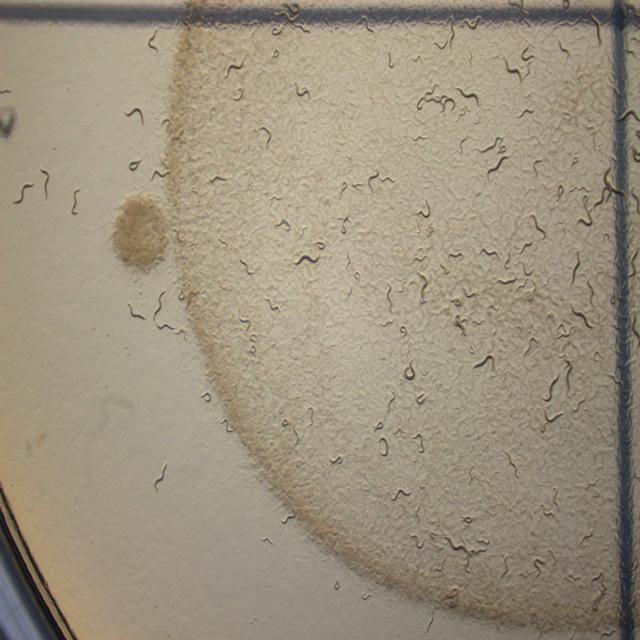filarid: (152, 290, 186, 334), (294, 240, 325, 265), (540, 407, 562, 432), (542, 372, 560, 402), (12, 182, 35, 205), (154, 462, 168, 491), (474, 352, 495, 370), (40, 165, 50, 199), (128, 302, 146, 320), (412, 432, 425, 453), (71, 189, 80, 215), (404, 360, 415, 380), (275, 219, 291, 230), (380, 437, 389, 455), (129, 158, 141, 170), (389, 390, 396, 410), (282, 514, 295, 523), (416, 394, 426, 404), (394, 427, 406, 435), (262, 537, 274, 544), (375, 420, 382, 430), (4, 127, 9, 134)
